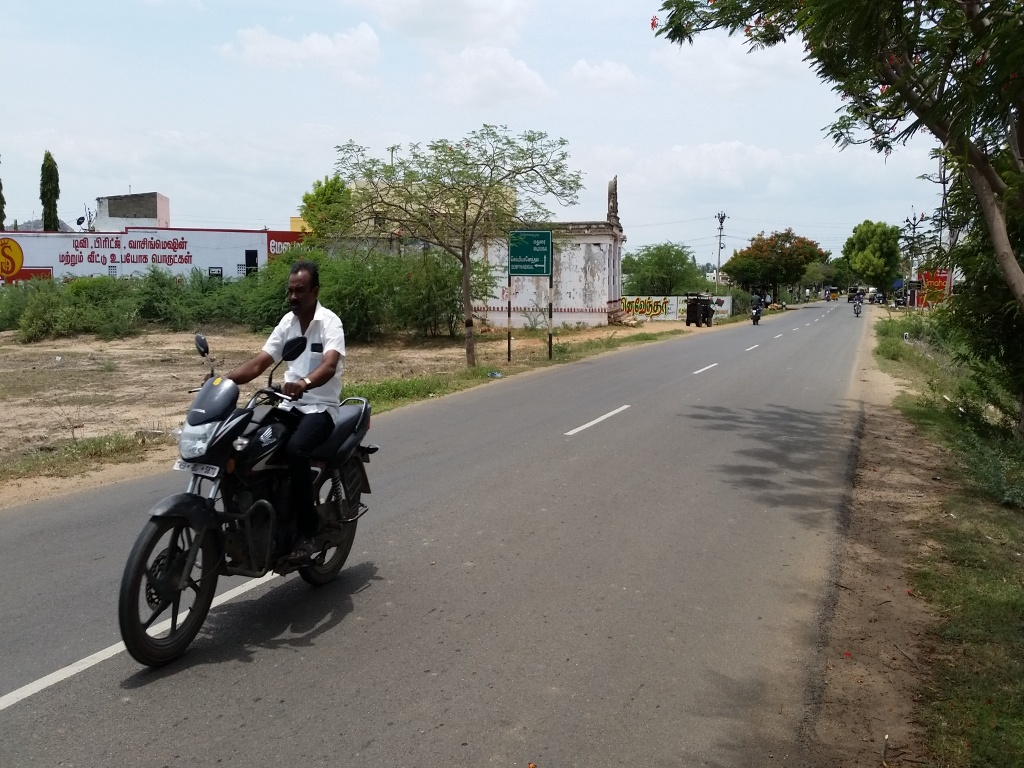biker: (96, 192, 403, 676)
nohelmet: (270, 245, 338, 332)
